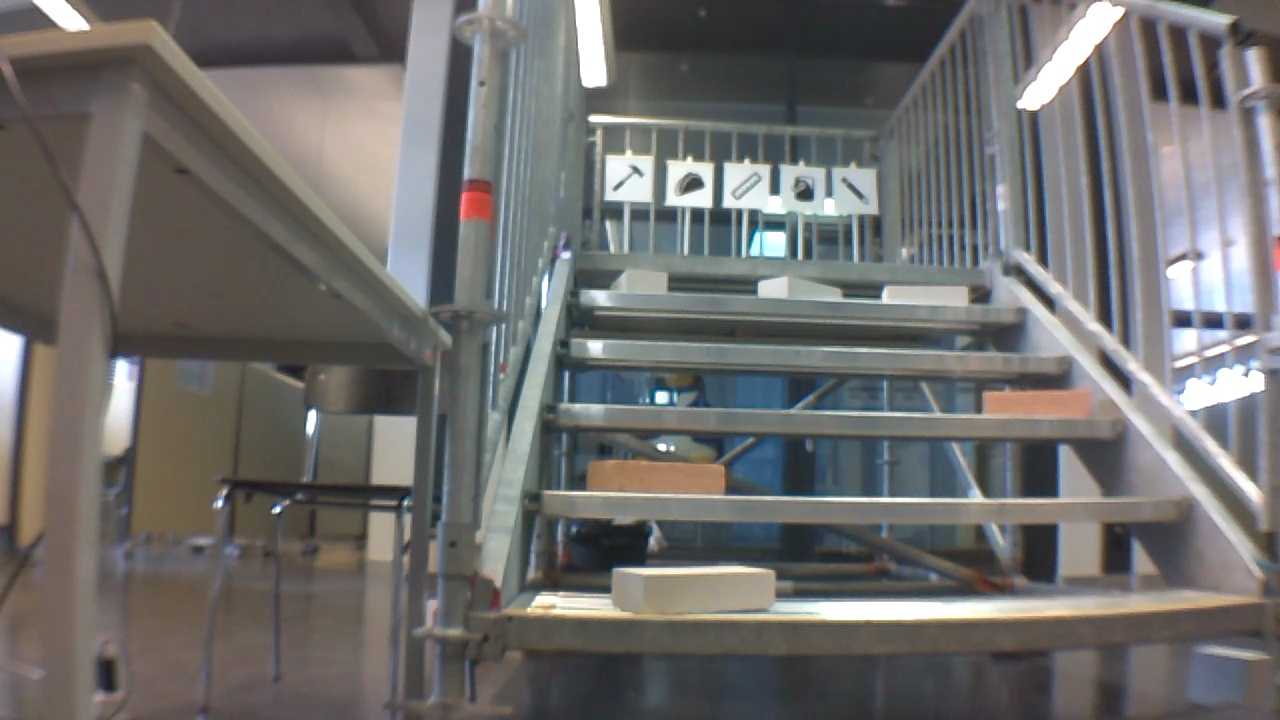brick: (612, 565, 773, 615), (588, 459, 723, 495), (983, 390, 1093, 418), (756, 277, 842, 300), (883, 285, 965, 304), (612, 270, 666, 291)
bucket: (786, 172, 820, 203)
edge: (507, 602, 1261, 655), (525, 491, 1192, 523), (556, 338, 1072, 374), (542, 403, 1122, 435), (566, 290, 1025, 323), (571, 251, 986, 281)
hammer: (607, 161, 647, 196)
pencil: (838, 174, 875, 207)
ruler: (727, 168, 768, 204)
stairs: (428, 6, 1280, 716)
steps: (500, 243, 1266, 664)
taco: (669, 167, 708, 197)
